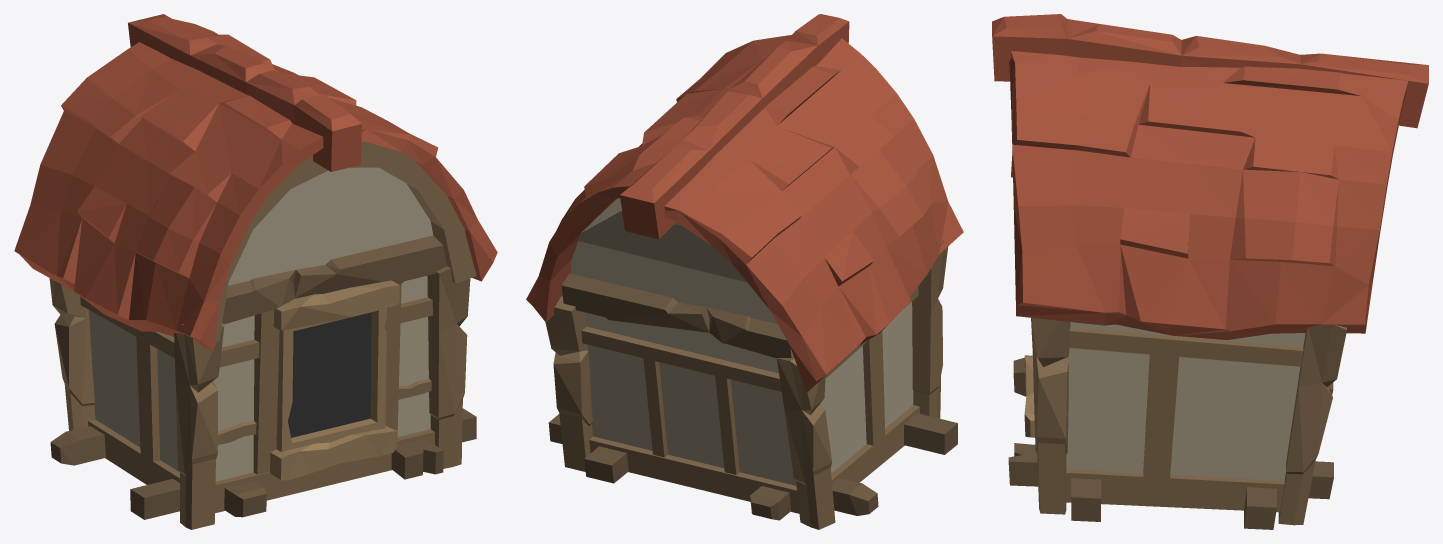
The model's file is SM_Bld_House_Window_03.gltf.
3 renders of one model, left to right at view 1: azimuth 30°, elevation 25°; view 2: azimuth 150°, elevation 25°; view 3: azimuth 270°, elevation 25°, orthographic. The views are drawn at different scales.
Parts seen in each view (by area): view 1: SM_Bld_House_Window_03; view 2: SM_Bld_House_Window_03; view 3: SM_Bld_House_Window_03.
Part boxes in pixels (<box>): SM_Bld_House_Window_03: <box>14,14,497,529</box>; SM_Bld_House_Window_03: <box>526,14,963,529</box>; SM_Bld_House_Window_03: <box>992,14,1428,529</box>.
Size of the model in its own units: 1.81 by 2.11 by 1.93.
Materials: 1 (1 with a texture image).
